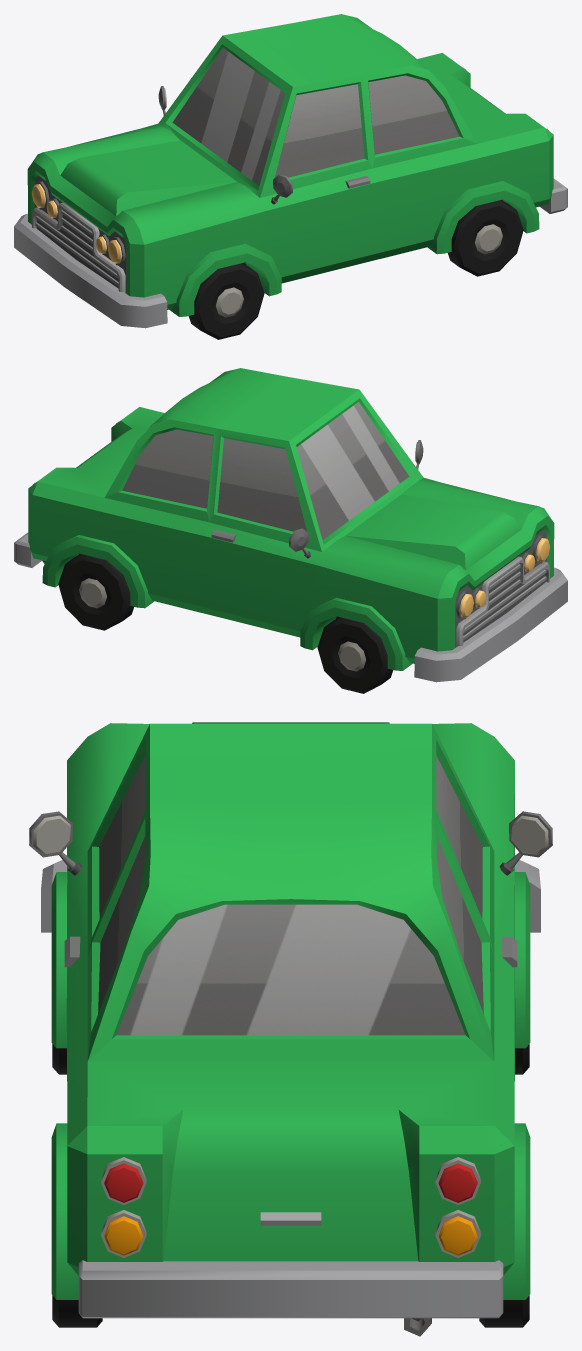
Rendered from Car_7_X.gltf.
The picture shows the model from 3 angles, top to bottom: view 1: azimuth 30°, elevation 25°; view 2: azimuth 150°, elevation 25°; view 3: azimuth 270°, elevation 25°; orthographic projection. The views are drawn at different scales.
Visible parts, largest first — view 1: Car_7_X, RL, FL; view 2: Car_7_X, RR, FR; view 3: Car_7_X, RL, RR.
Part boxes in pixels (x1,y1,x2,y2): Car_7_X: [14, 14, 567, 328]; RL: [448, 200, 523, 276]; FL: [188, 263, 264, 339]; Car_7_X: [14, 368, 567, 682]; RR: [58, 554, 133, 630]; FR: [317, 617, 393, 693]; Car_7_X: [29, 722, 552, 1336]; RL: [52, 1295, 102, 1327]; RR: [479, 1295, 529, 1327].
Bounding box in the file's own units: 3.38 × 1.52 × 1.7.
3 materials, 3 textured.
